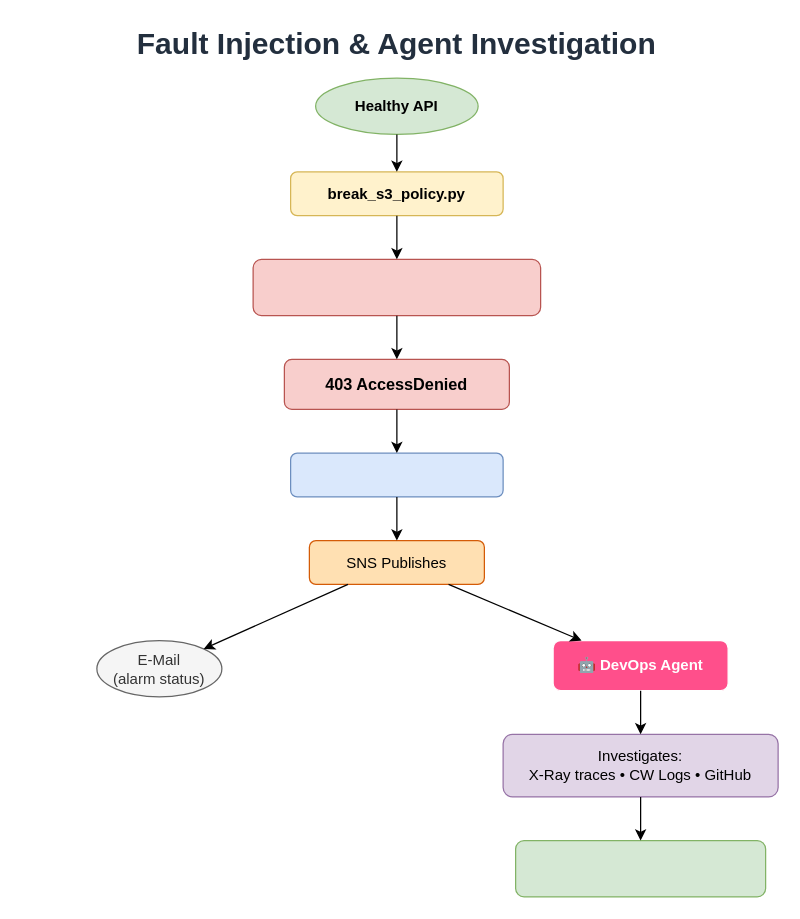
This 800x919 diagram has some shape labels left out. Each missing label, with the centre of its shape:
CloudWatch Alarm Fires: pixel 396 474
RCA: S3 bucket policy denies Lambda role: pixel 640 868
S3 Explicit Deny Injected PutObject / GetObject / ListBucket: pixel 396 287
